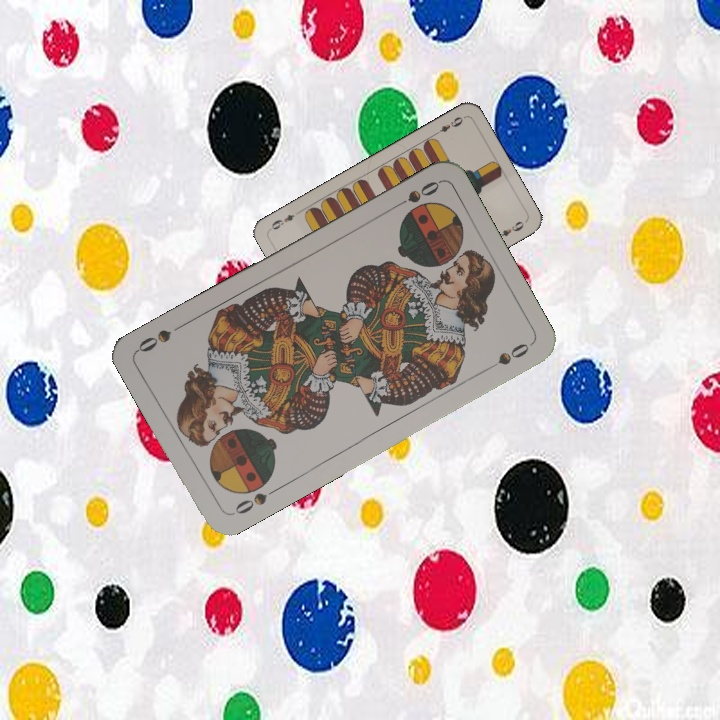E9: (430, 112, 467, 138)
SO: (387, 177, 443, 212), (226, 484, 281, 518)
